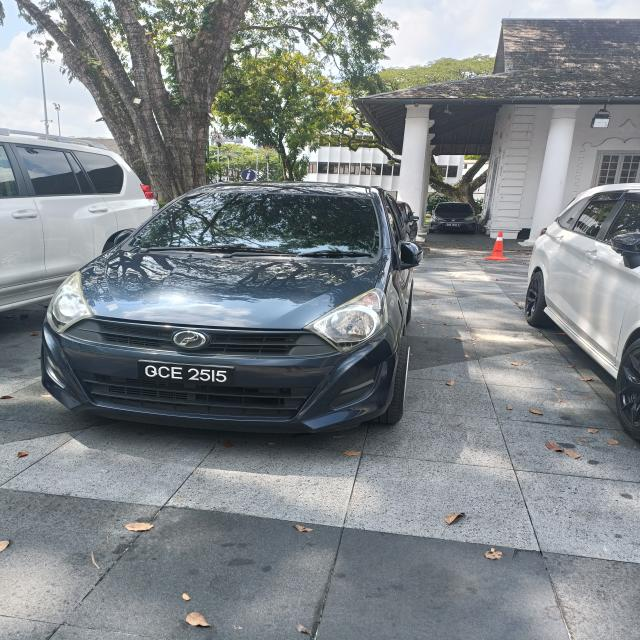PeroduaAxia: (39, 179, 424, 435)
